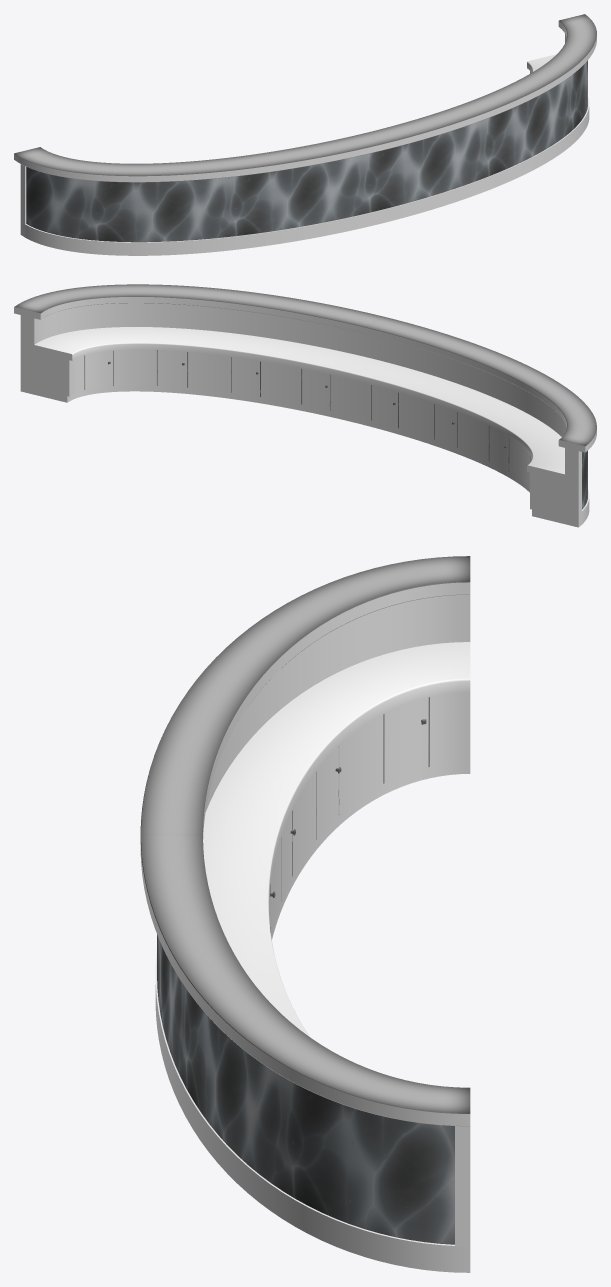
Rendered from Bar05.FBX.
3 views of the same model, one above another, from view 1: azimuth 30°, elevation 25°; view 2: azimuth 150°, elevation 25°; view 3: azimuth 270°, elevation 25° (orthographic). The views are drawn at different scales.
Parts seen in each view (by area): view 1: Bar05; view 2: Bar05; view 3: Bar05.
Boxes of the visible parts, x1=… form: Bar05: x1=14, y1=14, x2=596, y2=255; Bar05: x1=14, y1=284, x2=596, y2=527; Bar05: x1=140, y1=556, x2=470, y2=1272.
Bounding box in the file's own units: 900 × 125 × 225.
